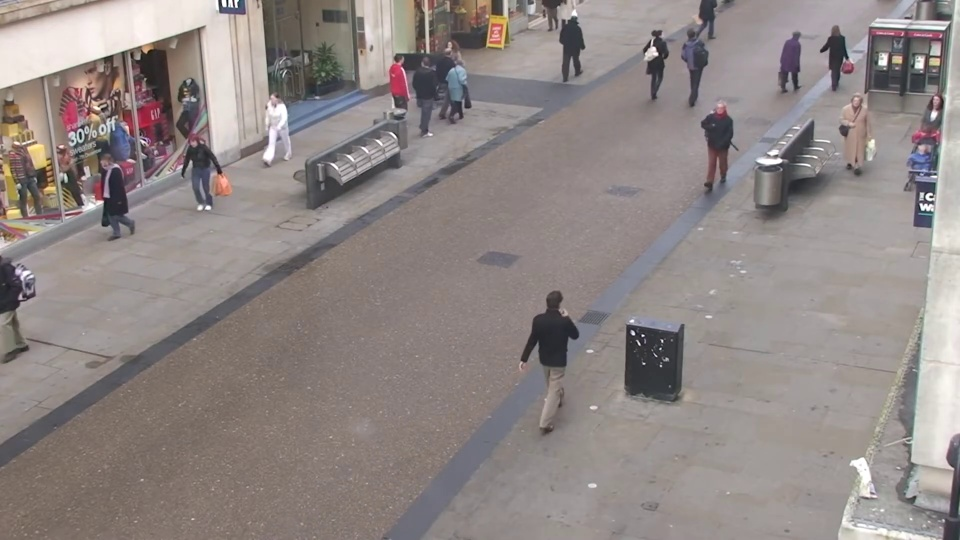pedestrian: (542, 274, 585, 412), (892, 142, 940, 248), (82, 153, 129, 255), (908, 91, 953, 185), (173, 135, 213, 234), (836, 92, 874, 184), (254, 89, 287, 176), (699, 99, 730, 191), (817, 21, 848, 94), (419, 53, 447, 131), (451, 52, 479, 129), (785, 27, 814, 100), (391, 49, 418, 126), (440, 43, 467, 118), (434, 39, 460, 113), (681, 22, 706, 93), (648, 24, 672, 95), (566, 8, 589, 75)
